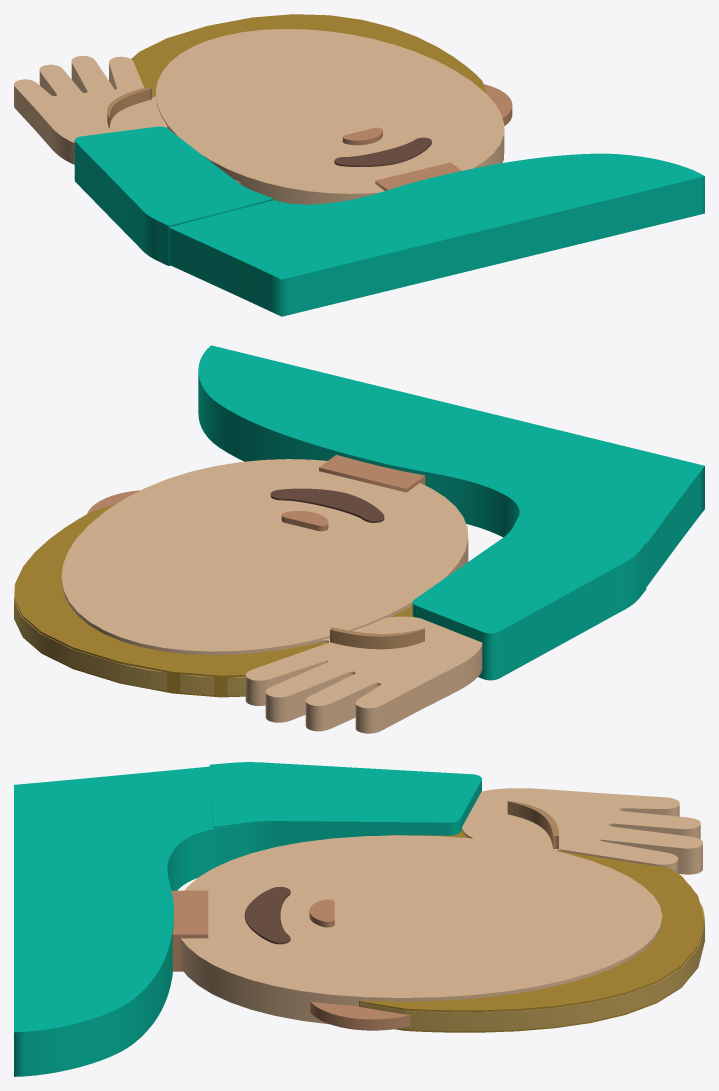
The model's file is emoji_u1f64b_1f3fc_200d_2642.glb.
3 renders of one model, top to bottom at view 1: azimuth 30°, elevation 25°; view 2: azimuth 150°, elevation 25°; view 3: azimuth 270°, elevation 25°, orthographic. The views are drawn at different scales.
Parts seen in each view (by area): view 1: emoji_u1f64b_1f3fc_200d_2642; view 2: emoji_u1f64b_1f3fc_200d_2642; view 3: emoji_u1f64b_1f3fc_200d_2642.
Boxes of the visible parts, box(x1,y1,x2,y2) form: emoji_u1f64b_1f3fc_200d_2642: box(14, 14, 704, 316); emoji_u1f64b_1f3fc_200d_2642: box(14, 345, 704, 733); emoji_u1f64b_1f3fc_200d_2642: box(14, 762, 704, 1076).
Bounding box in the file's own units: 0.031 × 0.0028 × 0.0337.
